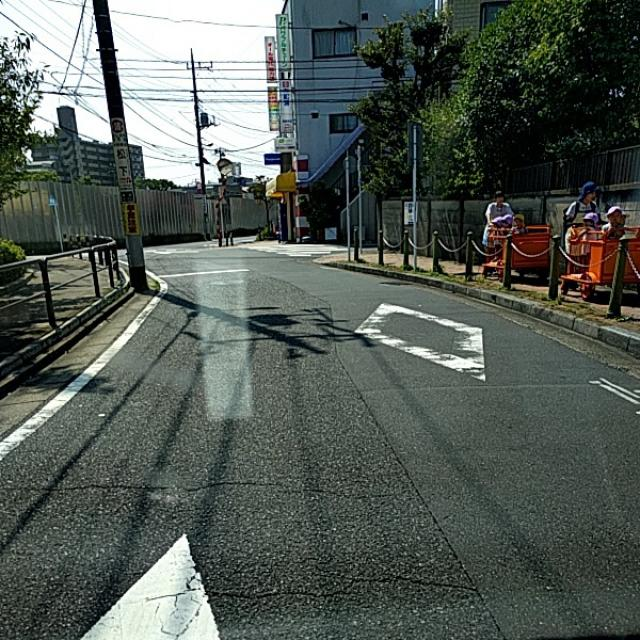pothole: (136, 542, 470, 614)
